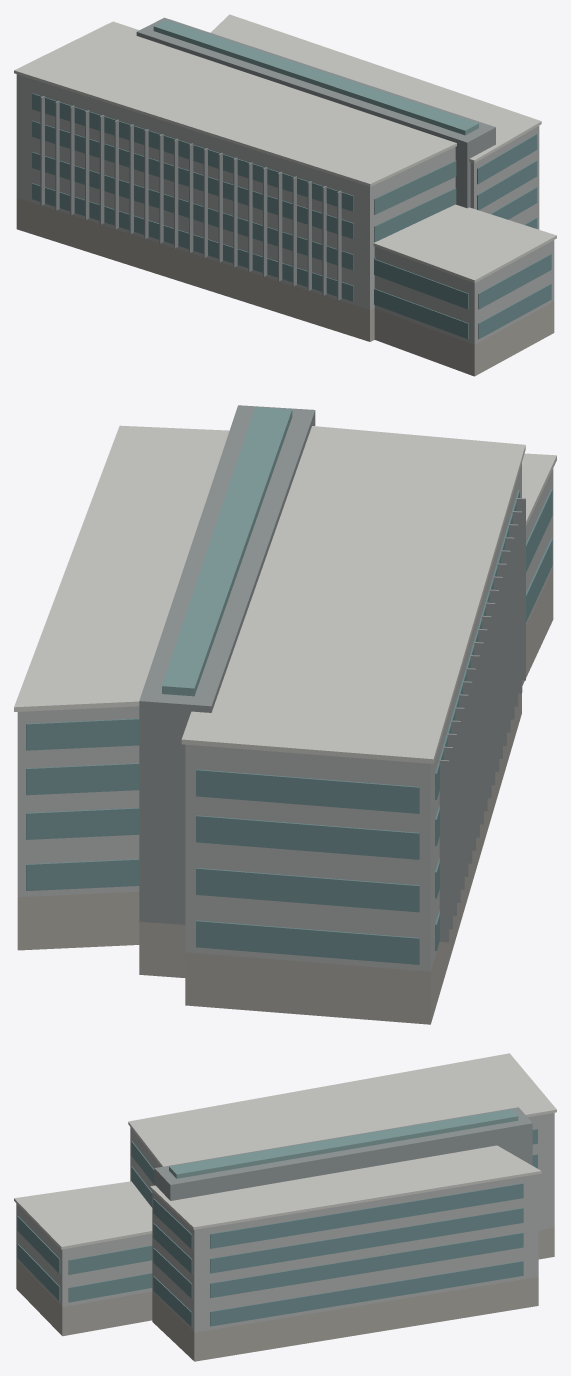
Rendered from ford-alumni-massing-review-2026-11-23.glb.
3 renders of one model, top to bottom at view 1: azimuth 30°, elevation 25°; view 2: azimuth 150°, elevation 25°; view 3: azimuth 270°, elevation 25°, orthographic. The views are drawn at different scales.
Visible parts, largest first — view 1: context-b0066; view 2: context-b0066; view 3: context-b0066.
Boxes of the visible parts, x1=… form: context-b0066: x1=14, y1=14, x2=556, y2=376; context-b0066: x1=14, y1=405, x2=556, y2=1024; context-b0066: x1=14, y1=1053, x2=556, y2=1361.
Size of the model in its own units: 47.82 by 21.45 by 67.82.
